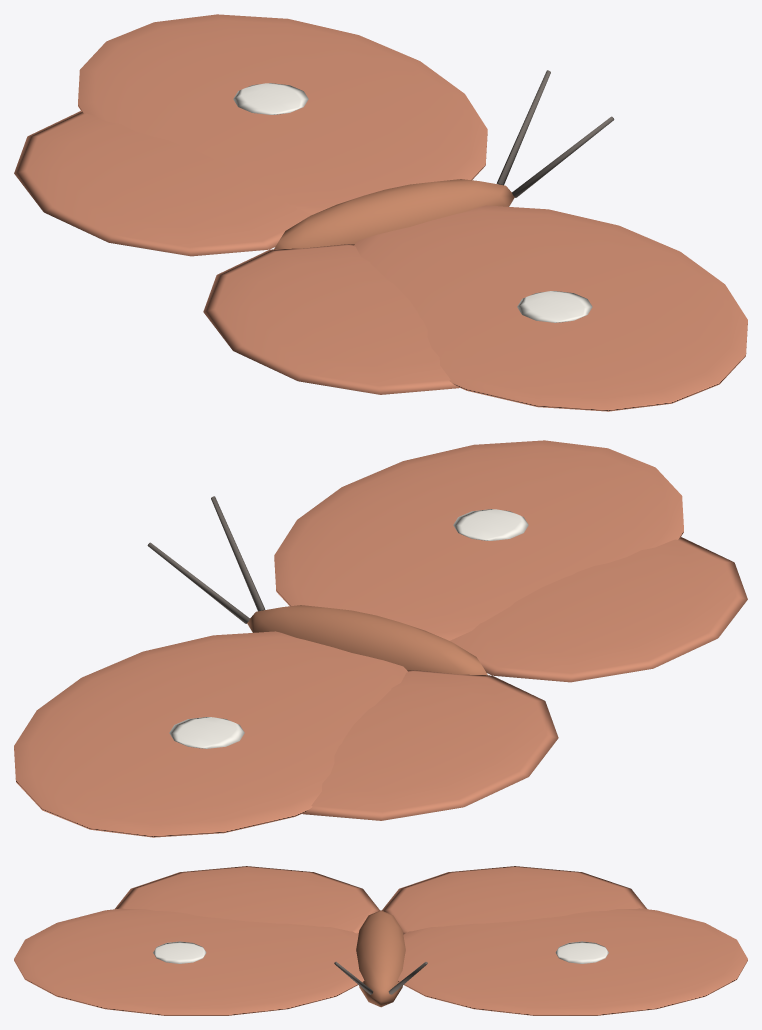
Rendered from atlas-moth.glb.
The picture shows the model from 3 angles, top to bottom: view 1: azimuth 30°, elevation 25°; view 2: azimuth 150°, elevation 25°; view 3: azimuth 270°, elevation 25°; orthographic projection. The views are drawn at different scales.
Visible parts, largest first — view 1: e.001, e.004, e; view 2: e.004, e.001, e; view 3: e.001, e.004, e.
Boxes of the visible parts, left/top/right/bottom form: e.001: left=203, top=205, right=747, bottom=411; e.004: left=14, top=14, right=487, bottom=256; e: left=274, top=70, right=614, bottom=249; e.004: left=14, top=631, right=558, bottom=837; e.001: left=274, top=440, right=747, bottom=682; e: left=147, top=496, right=487, bottom=675; e.001: left=14, top=866, right=379, bottom=1015; e.004: left=382, top=866, right=747, bottom=1015; e: left=334, top=910, right=427, bottom=1007.
Bounding box in the file's own units: 0.5418 × 0.1419 × 1.09.
